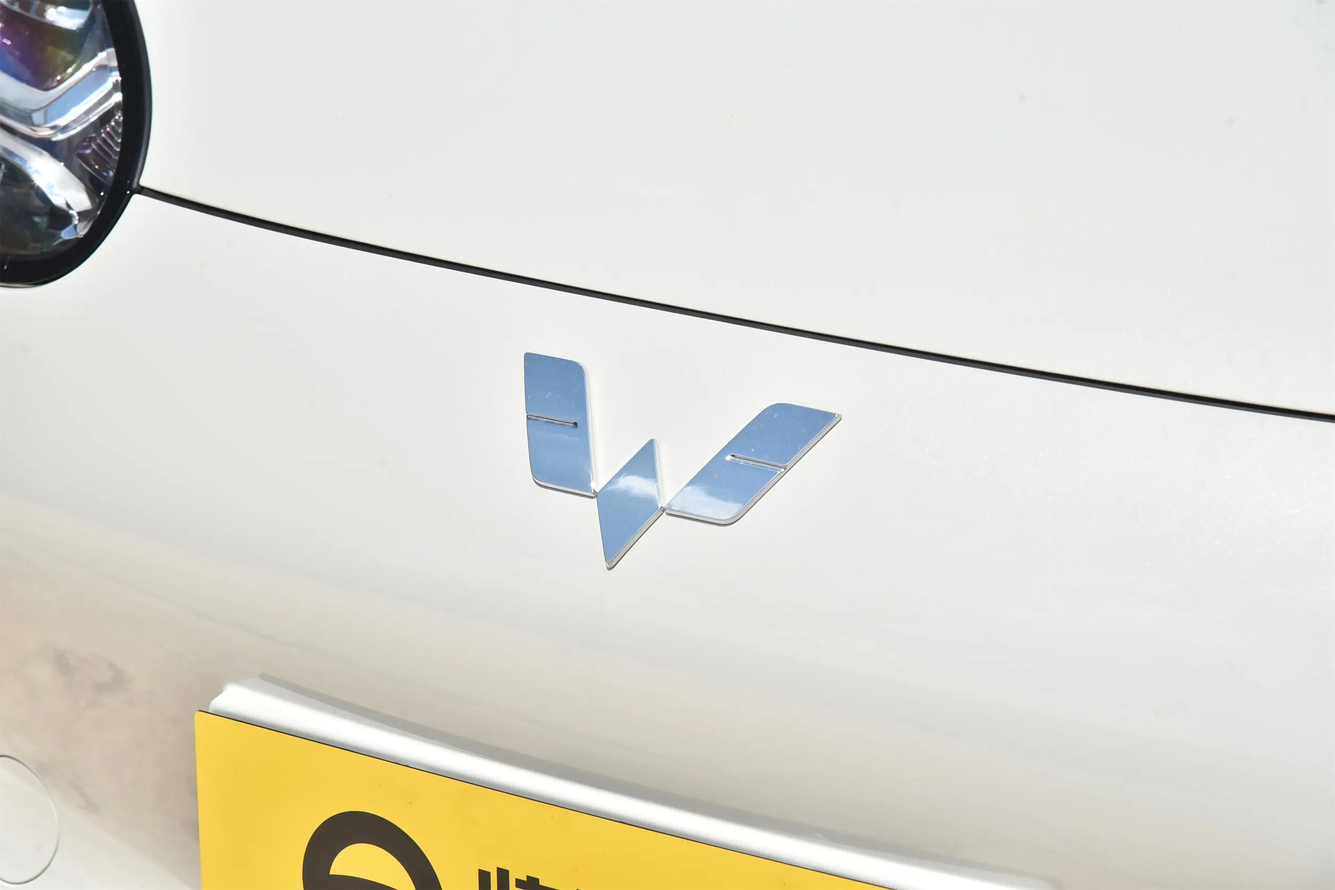SGMW: (524, 352, 842, 567)
